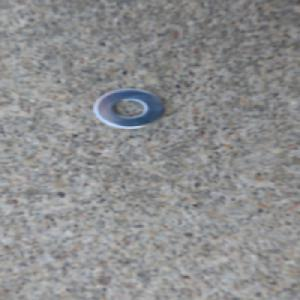Washer: (88, 85, 169, 133)
